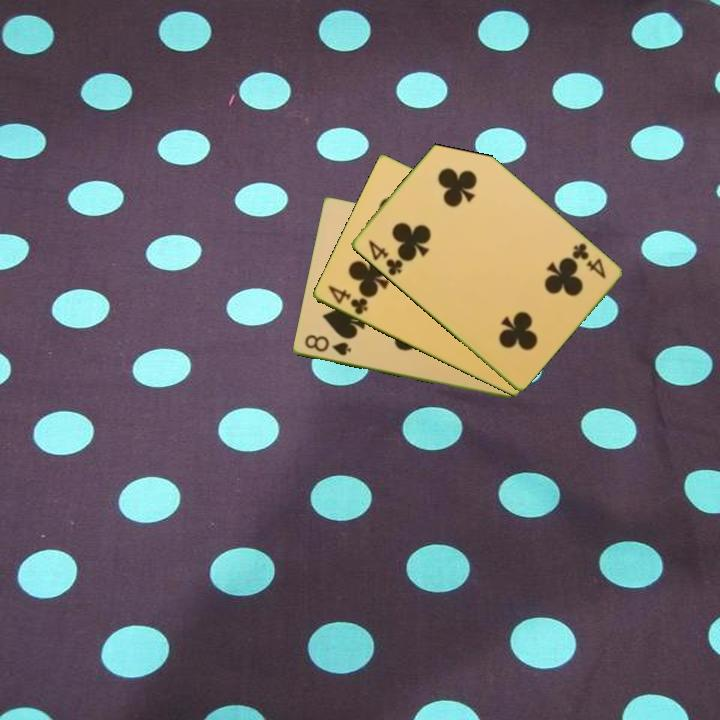4c: (364, 236, 405, 279), (568, 239, 609, 282), (324, 282, 370, 318)
8s: (301, 331, 354, 359)
